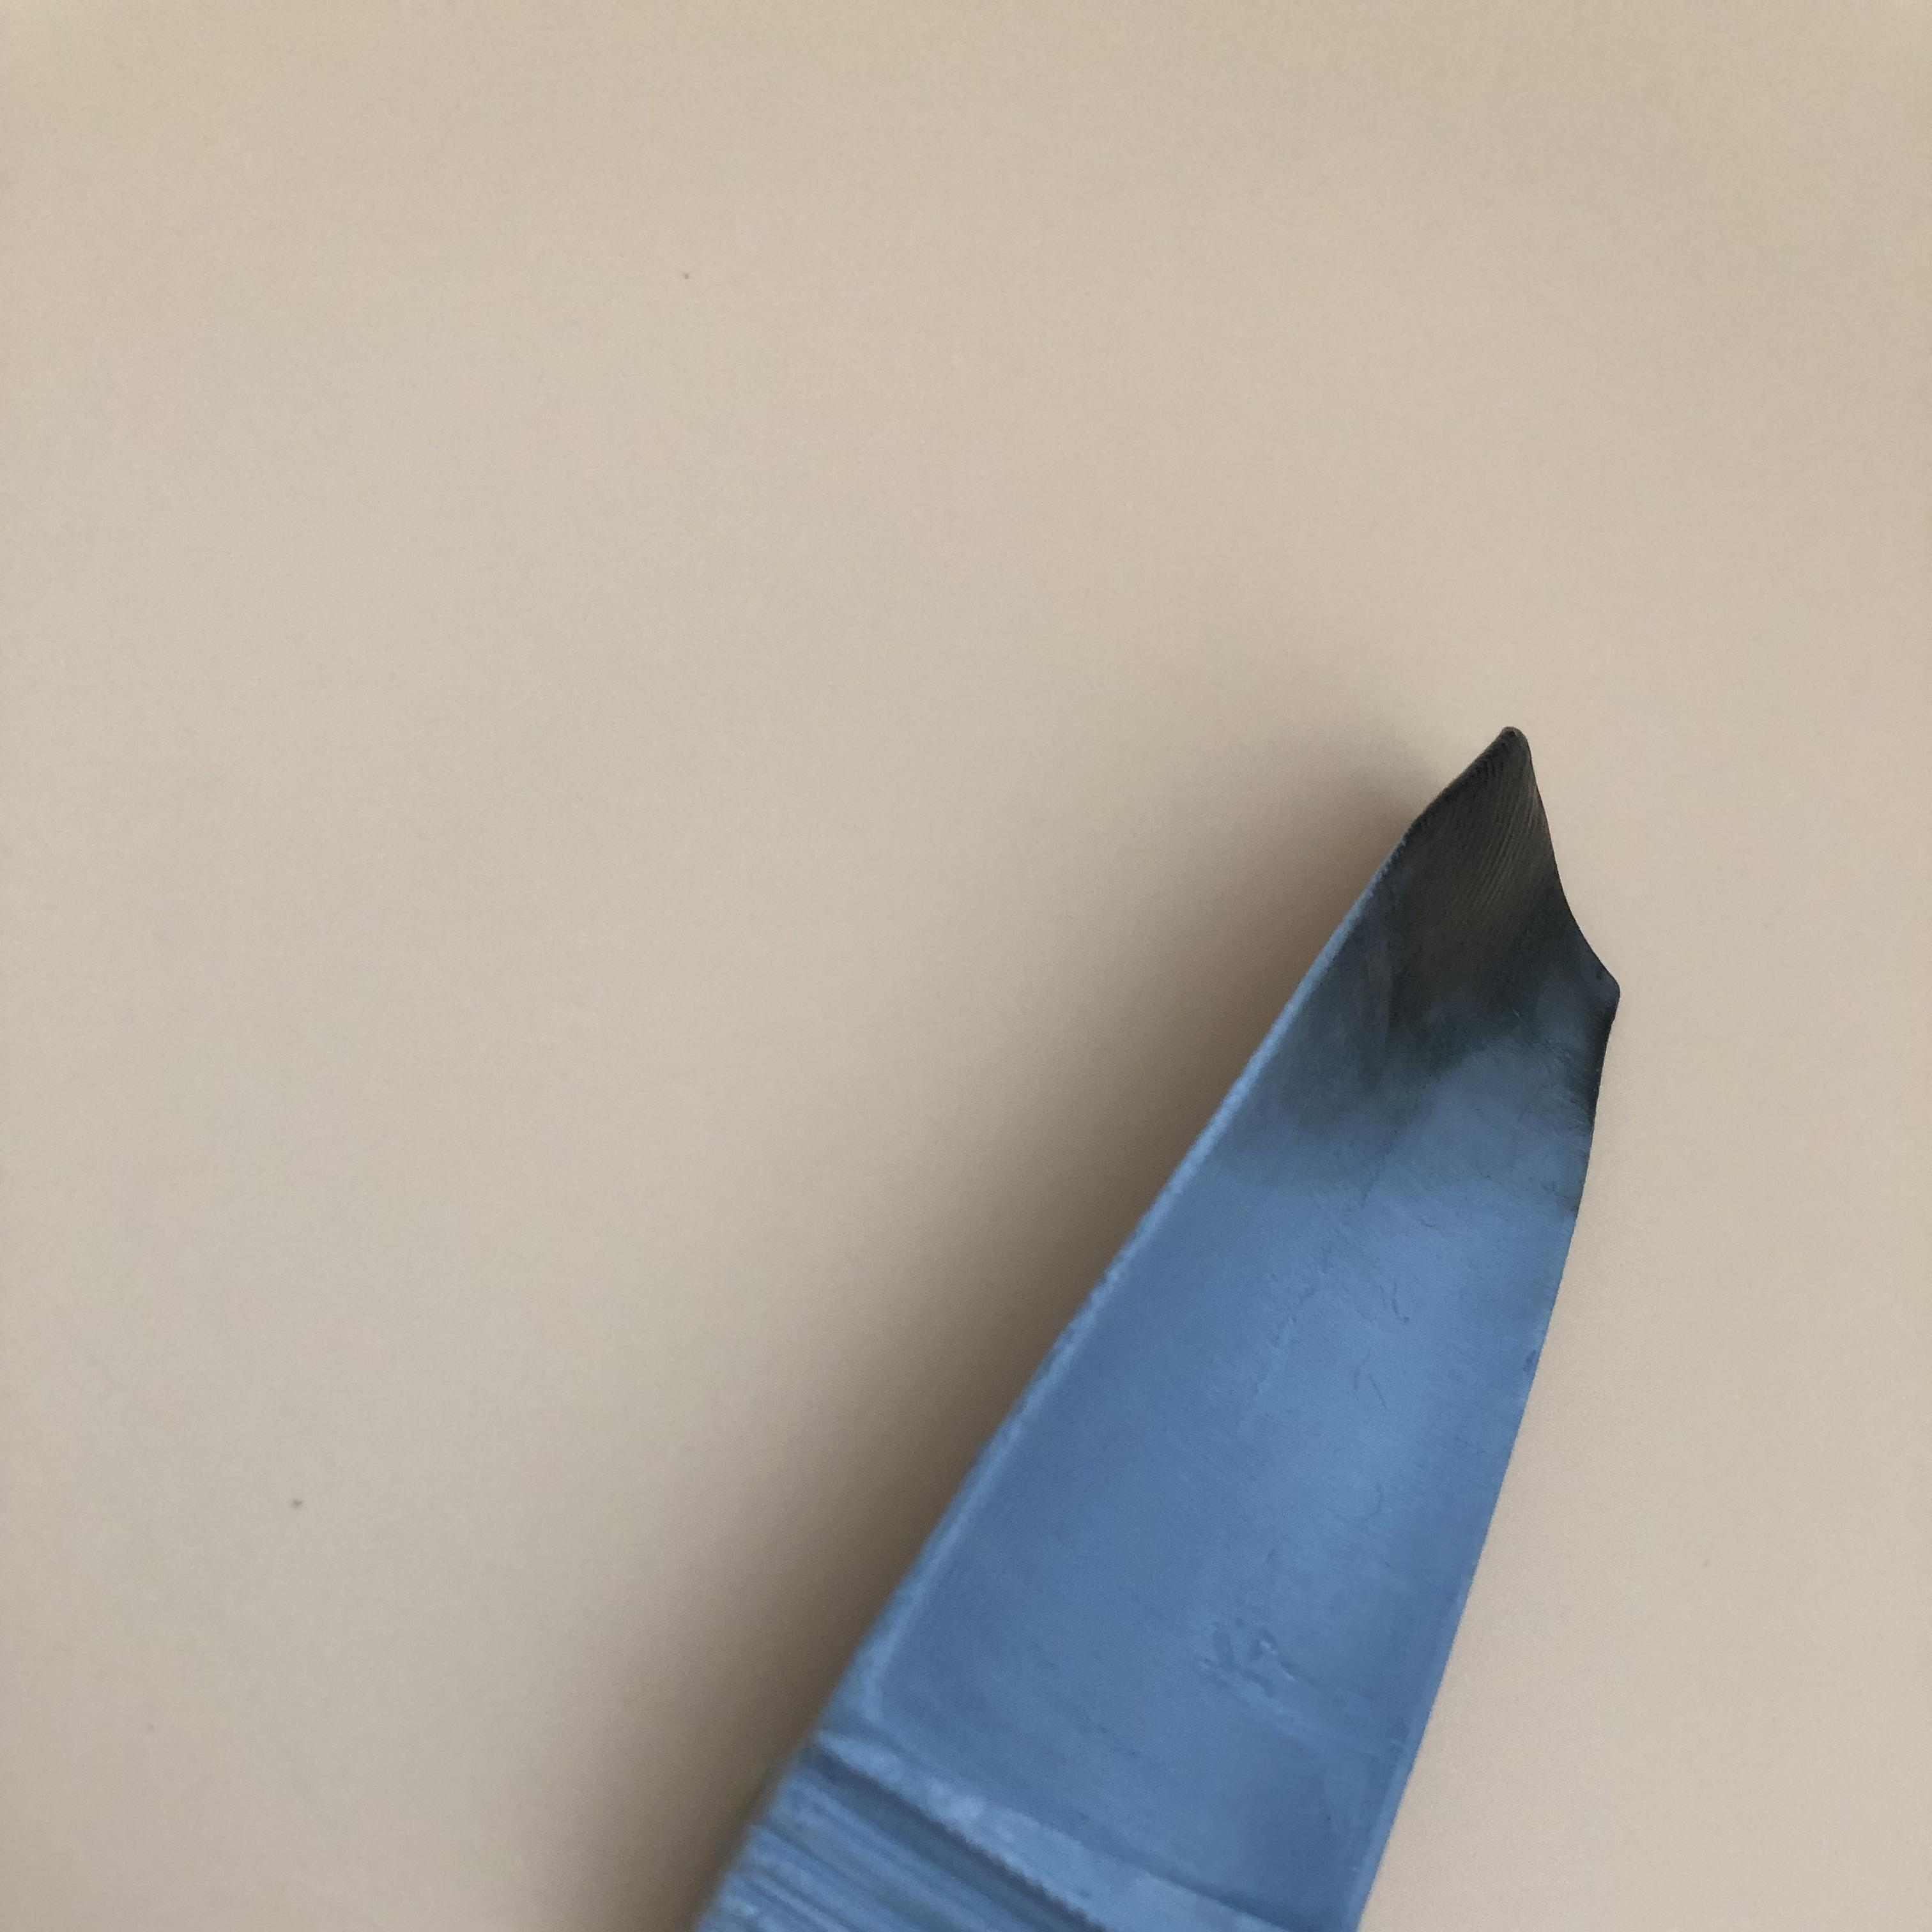ablation: (1364, 773, 1603, 1150)
